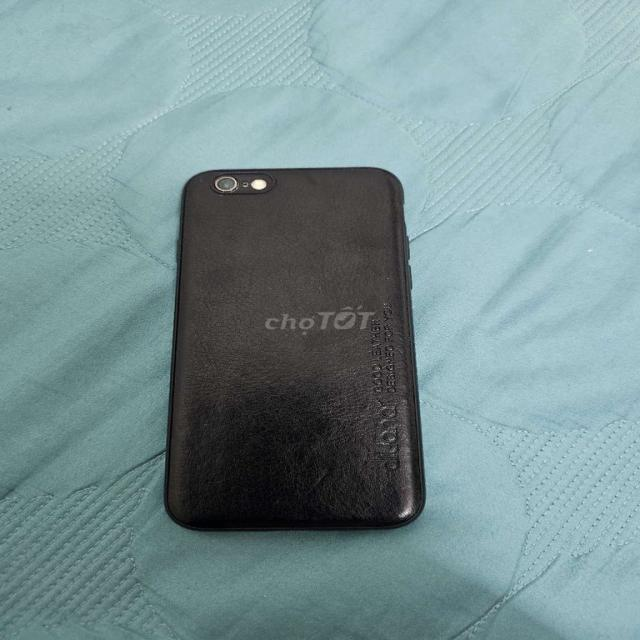gen_6: (154, 163, 451, 544)
